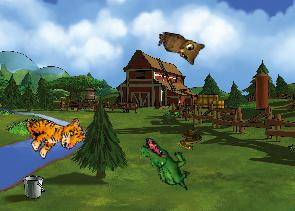crocodile: (131, 135, 200, 192)
owl: (154, 31, 205, 66)
tiger: (20, 100, 88, 165)
